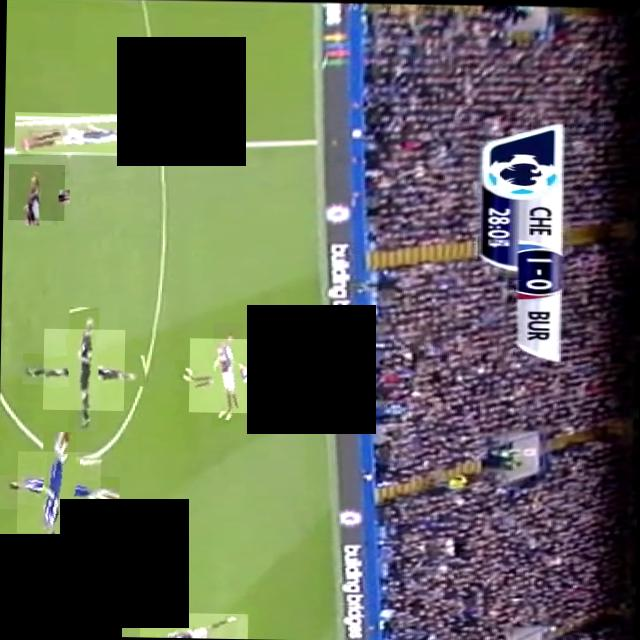referee: (42, 328, 124, 411)
soccer-player: (15, 451, 100, 534), (12, 112, 146, 156), (188, 338, 264, 413), (6, 163, 64, 220), (138, 612, 246, 639)
